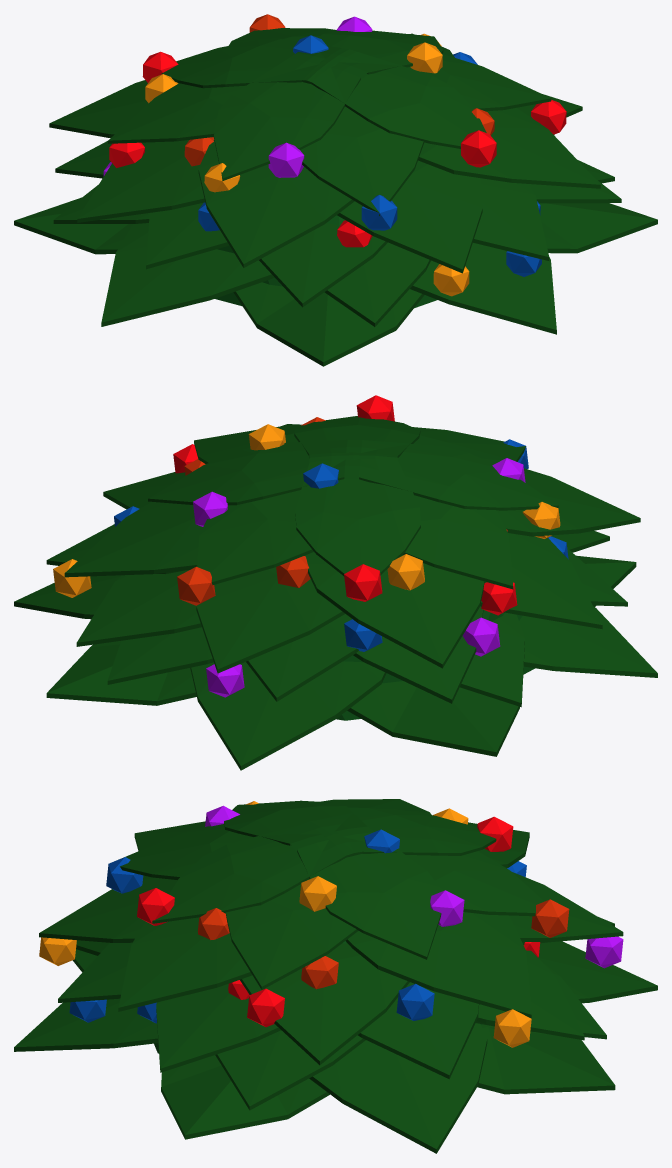
The model's file is BushLLeafsFruits.obj.
3 views of the same model, one above another, from view 1: azimuth 30°, elevation 25°; view 2: azimuth 150°, elevation 25°; view 3: azimuth 270°, elevation 25° (orthographic). The views are drawn at different scales.
Parts seen in each view (by area): view 1: BushLLeafsFruits_Plane; view 2: BushLLeafsFruits_Plane; view 3: BushLLeafsFruits_Plane.
Part boxes in pixels (x1=…): BushLLeafsFruits_Plane: x1=14, y1=14, x2=657, y2=366; BushLLeafsFruits_Plane: x1=14, y1=395, x2=657, y2=770; BushLLeafsFruits_Plane: x1=14, y1=799, x2=657, y2=1153.
Size of the model in its own units: 9.77 by 3.2 by 9.89.
